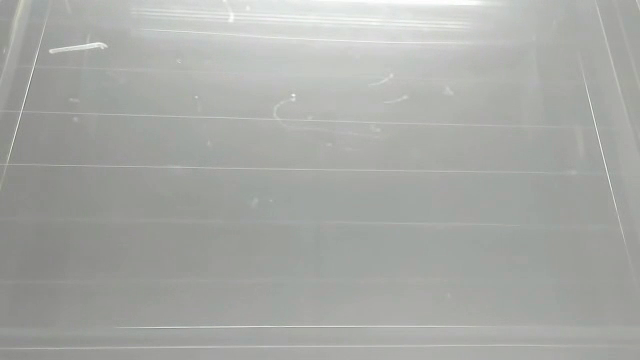alpha: (47, 40, 111, 59)
